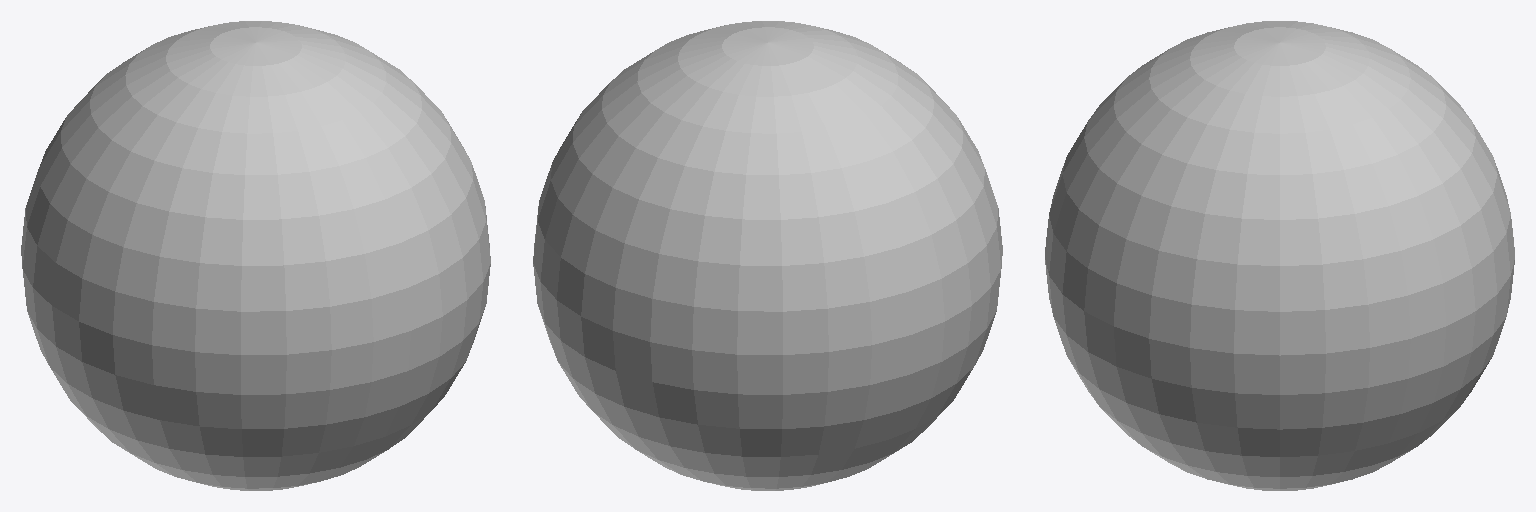
Rendered from bead3.obj.
3 renders of one model, left to right at view 1: azimuth 30°, elevation 25°; view 2: azimuth 150°, elevation 25°; view 3: azimuth 270°, elevation 25°, orthographic.
Visible parts, largest first — view 1: Sphere; view 2: Sphere; view 3: Sphere.
Boxes of the visible parts, <box> form: Sphere: <box>21,21,490,490</box>; Sphere: <box>533,21,1002,490</box>; Sphere: <box>1045,21,1514,490</box>.
Bounding box in the file's own units: 0.6272 × 0.6272 × 0.6272.